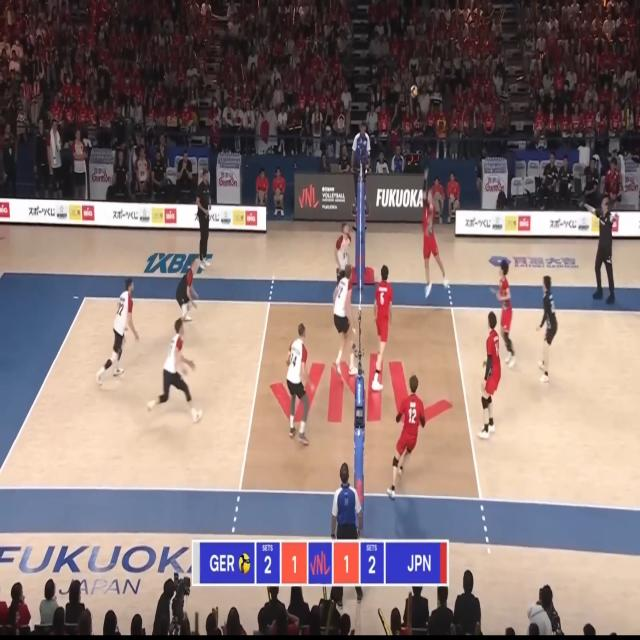ball: (411, 86, 417, 98)
